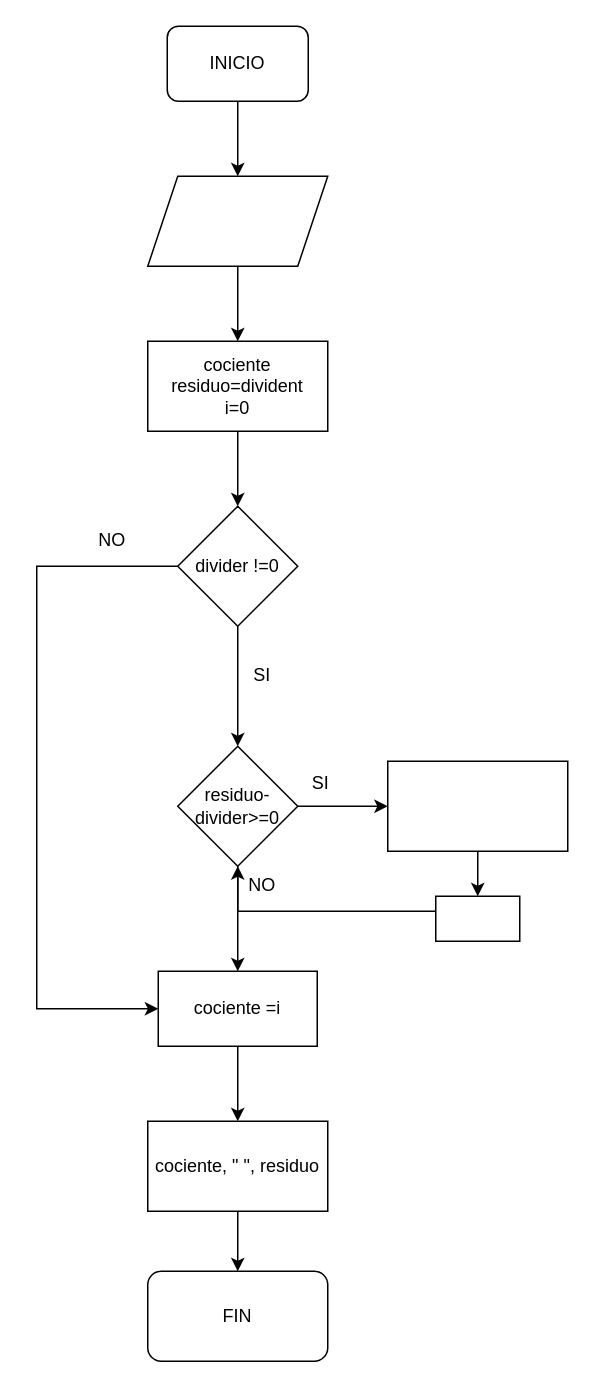
Some shapes in this 594 by 1388 pixel diagram are drawn without their labels. The shapes that lost their labels are listed below. From the top down, each one's centre as x and y in pixels, then its label:
(x=237, y=220): divident divider
(x=477, y=805): residuo -=divider
(x=477, y=918): ++i
